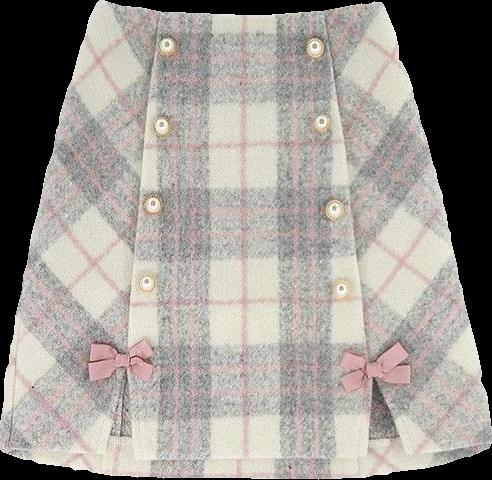Hemline: (0, 368, 491, 460)
Waistline: (96, 0, 384, 21)
